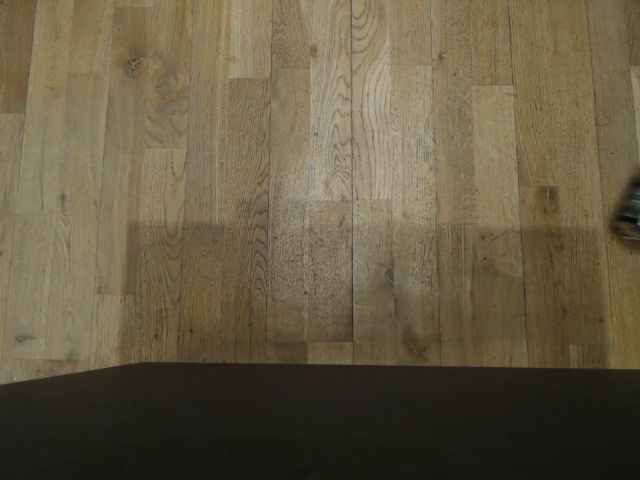beer: (612, 164, 640, 242)
